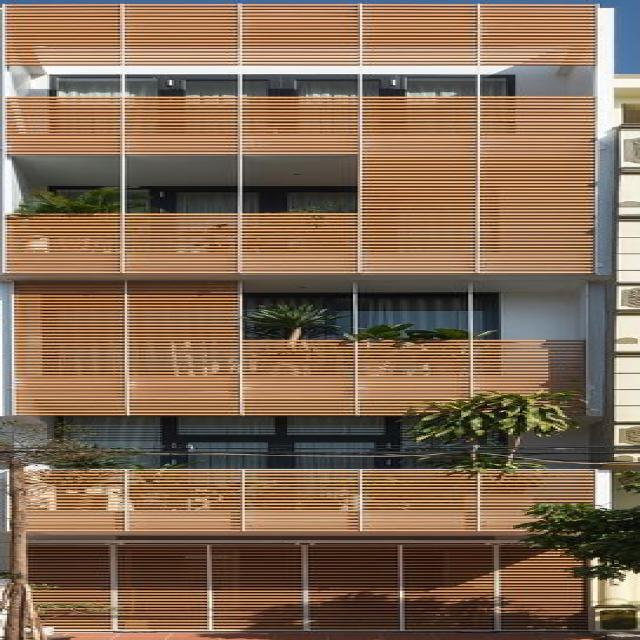plant: (418, 392, 593, 476), (515, 495, 638, 581), (2, 422, 146, 469)
wall: (0, 4, 638, 638)
windows: (70, 417, 468, 468), (250, 293, 508, 341), (64, 76, 518, 96), (54, 189, 348, 213)
